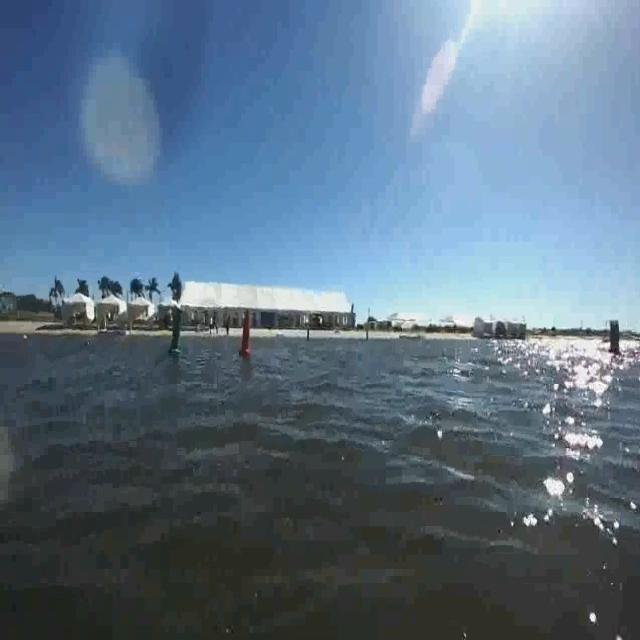green-column-buoy: (168, 307, 184, 356)
red-column-buoy: (238, 316, 250, 359)
